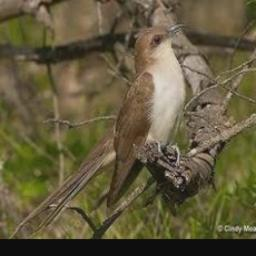Cuckoo: (105, 23, 189, 207)
